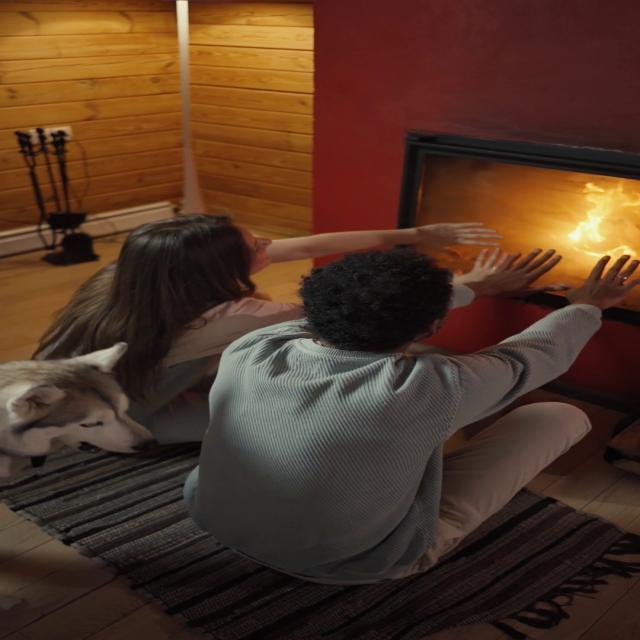Fire: (535, 180, 640, 252)
